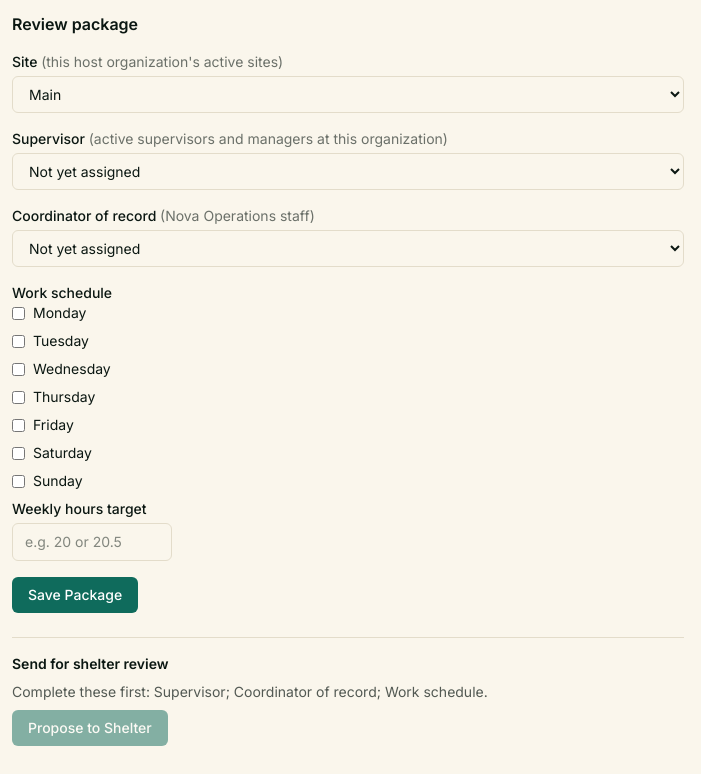
AssignmentForm (Story 5.2) › reveals keyboard-operable time inputs when a day is enabled
Check: the field labelled "Start" is not shown
Click the checkbox labelled "Monday".
click(18, 313)  # box [12,306,25,320]
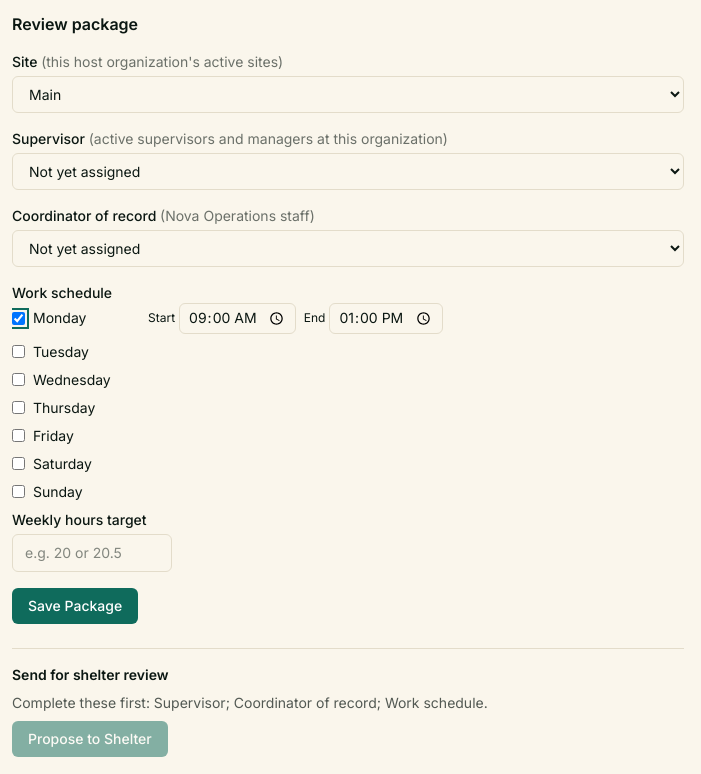
Check: the number of time fields labelled "Start" is 1, box [179,303,296,334]
Check: the number of time fields labelled "End" is 1, box [329,303,443,334]
